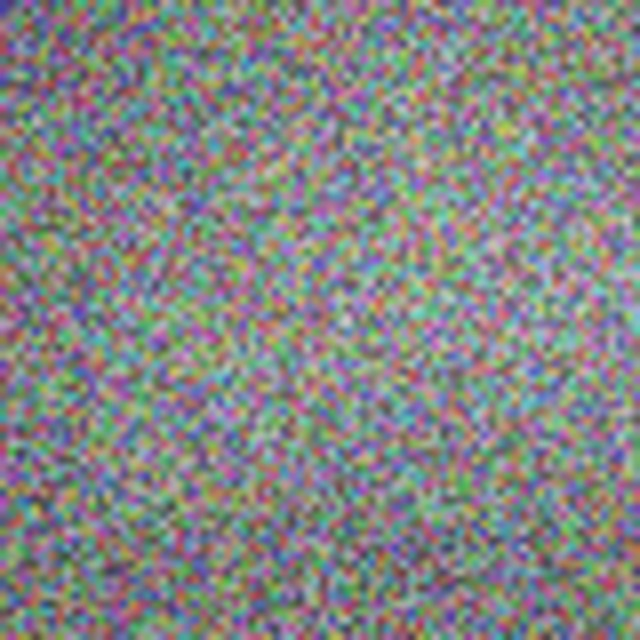smoke: (226, 158, 600, 532)
